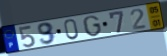0: (64, 18, 81, 41)
2: (130, 8, 147, 31)
5: (17, 24, 37, 49)
7: (107, 10, 125, 34)
9: (36, 21, 57, 46)
G: (82, 14, 103, 37)
